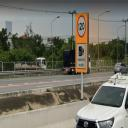speed_limit_120: (76, 13, 87, 39)
